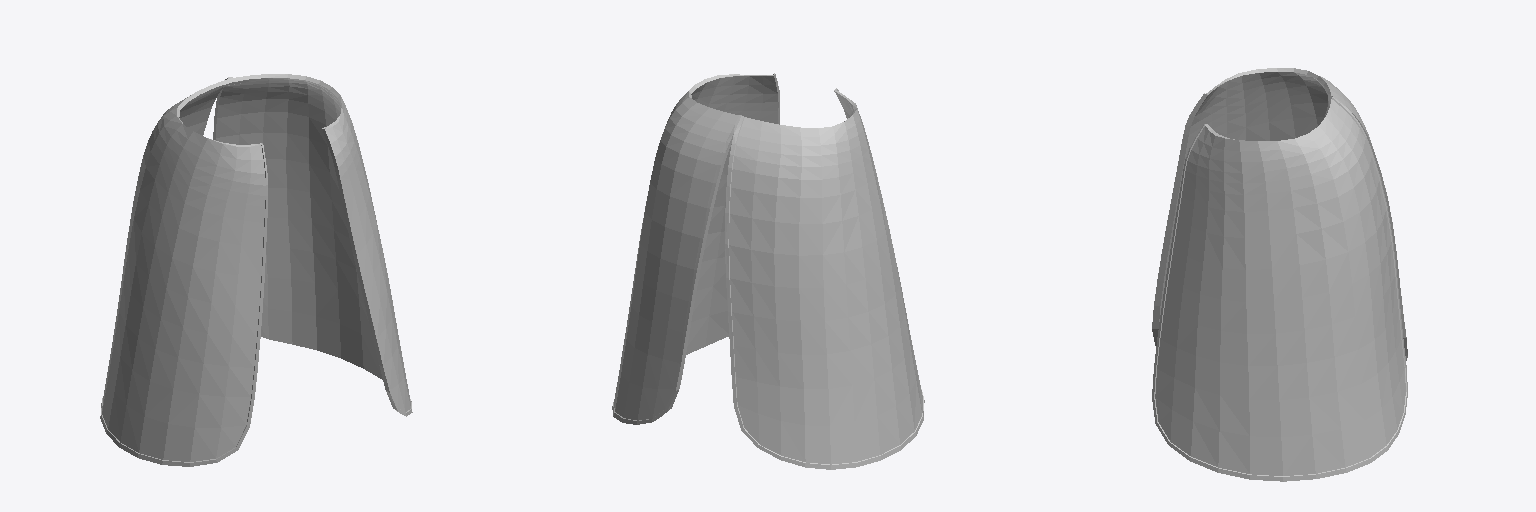
File: Kama.obj
3 renders of one model, left to right at view 1: azimuth 30°, elevation 25°; view 2: azimuth 150°, elevation 25°; view 3: azimuth 270°, elevation 25°, orthographic.
Visible parts, largest first — view 1: ARC_Kama_Wear_Human_Male_Body_CloneFivesSeason4Suit_LOD0.000; view 2: ARC_Kama_Wear_Human_Male_Body_CloneFivesSeason4Suit_LOD0.000; view 3: ARC_Kama_Wear_Human_Male_Body_CloneFivesSeason4Suit_LOD0.000.
Part boxes in pixels (bbox=[...]): ARC_Kama_Wear_Human_Male_Body_CloneFivesSeason4Suit_LOD0.000: bbox=[100, 74, 412, 466]; ARC_Kama_Wear_Human_Male_Body_CloneFivesSeason4Suit_LOD0.000: bbox=[612, 73, 924, 469]; ARC_Kama_Wear_Human_Male_Body_CloneFivesSeason4Suit_LOD0.000: bbox=[1152, 68, 1407, 481].
Size of the model in its own units: 19.16 by 21.62 by 15.71.